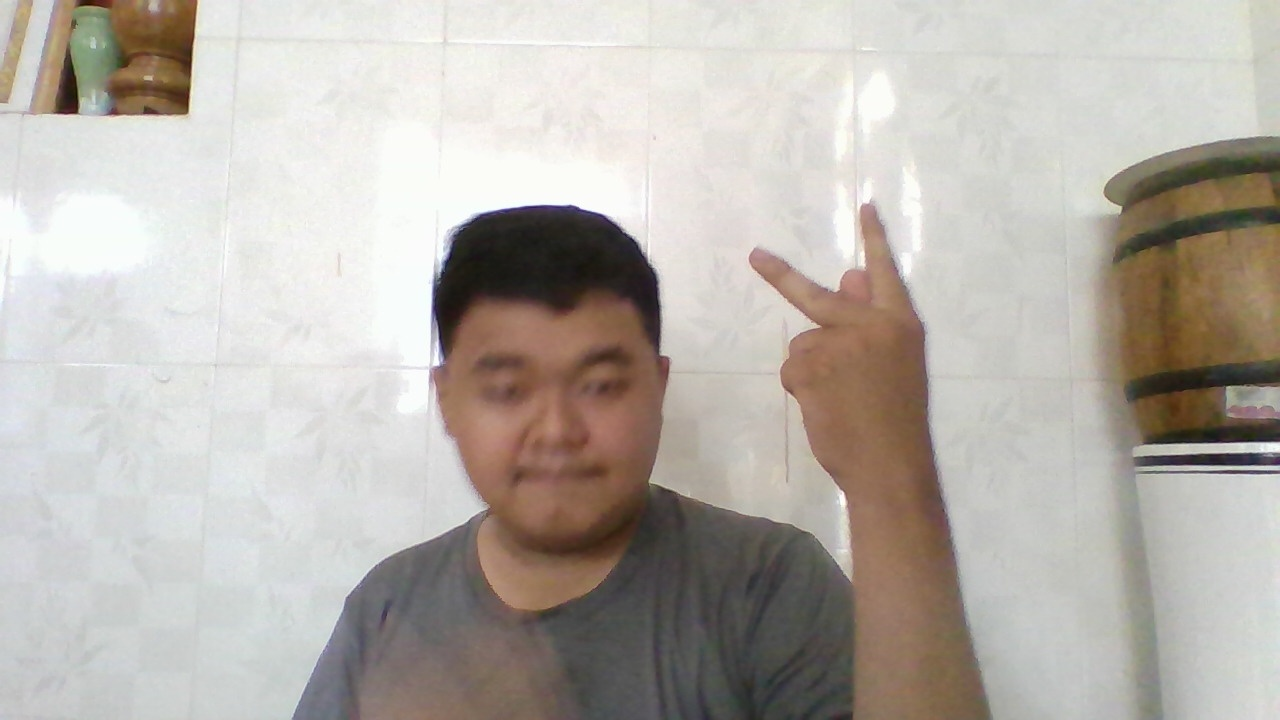K: (739, 189, 930, 489)
